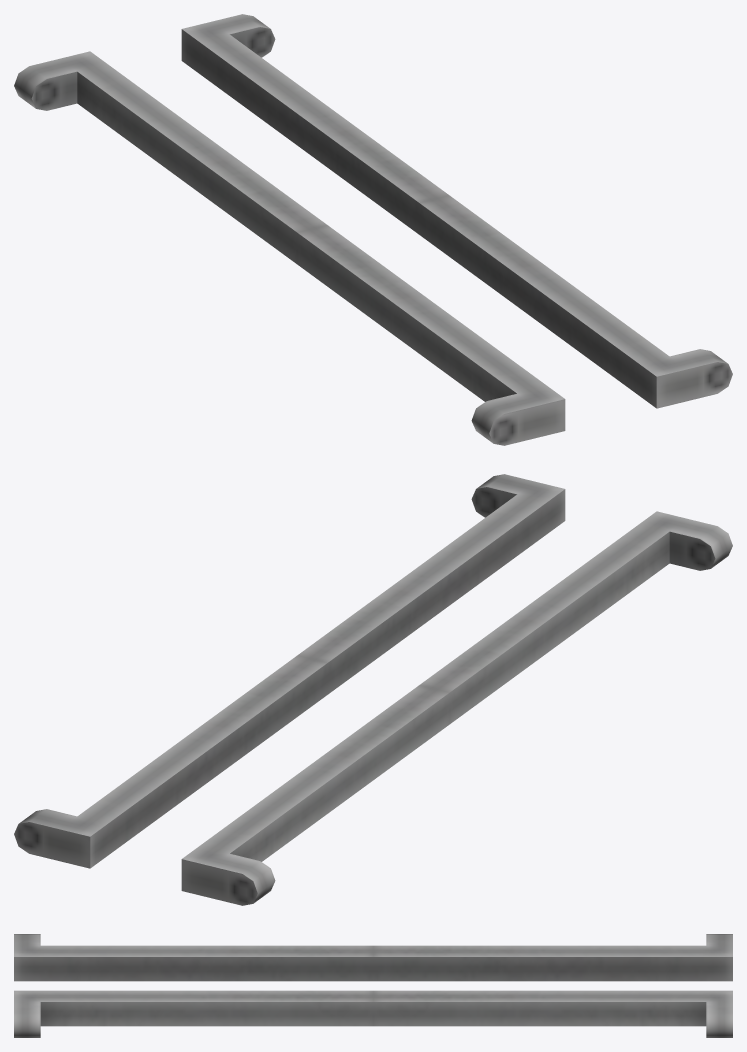
File: eridani_solar_short_arm.obj
The picture shows the model from 3 angles, top to bottom: view 1: azimuth 30°, elevation 25°; view 2: azimuth 150°, elevation 25°; view 3: azimuth 270°, elevation 25°; orthographic projection. The views are drawn at different scales.
Parts seen in each view (by area): view 1: mesh1; view 2: mesh1; view 3: mesh1.
Part boxes in pixels (x1,y1,x2,y2): mesh1: (14, 14, 732, 445); mesh1: (14, 474, 732, 905); mesh1: (14, 934, 732, 1037).
Size of the model in its own units: 0.2 by 0.025 by 0.675.
1 material, 1 textured.
